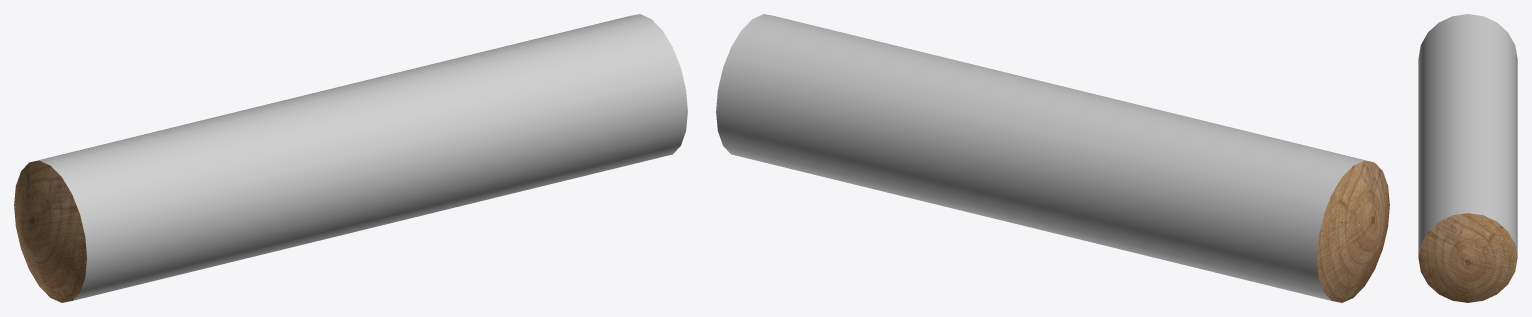
The model's file is PalmTreeLog.fbx.
3 views of the same model, side by side, from view 1: azimuth 30°, elevation 25°; view 2: azimuth 150°, elevation 25°; view 3: azimuth 270°, elevation 25° (orthographic). The views are drawn at different scales.
Visible parts, largest first — view 1: pCylinder1; view 2: pCylinder1; view 3: pCylinder1.
Boxes of the visible parts, bbox=[...] form: pCylinder1: bbox=[14, 14, 687, 302]; pCylinder1: bbox=[716, 14, 1389, 302]; pCylinder1: bbox=[1418, 14, 1517, 302].
Size of the model in its own units: 10.31 by 2 by 2.
